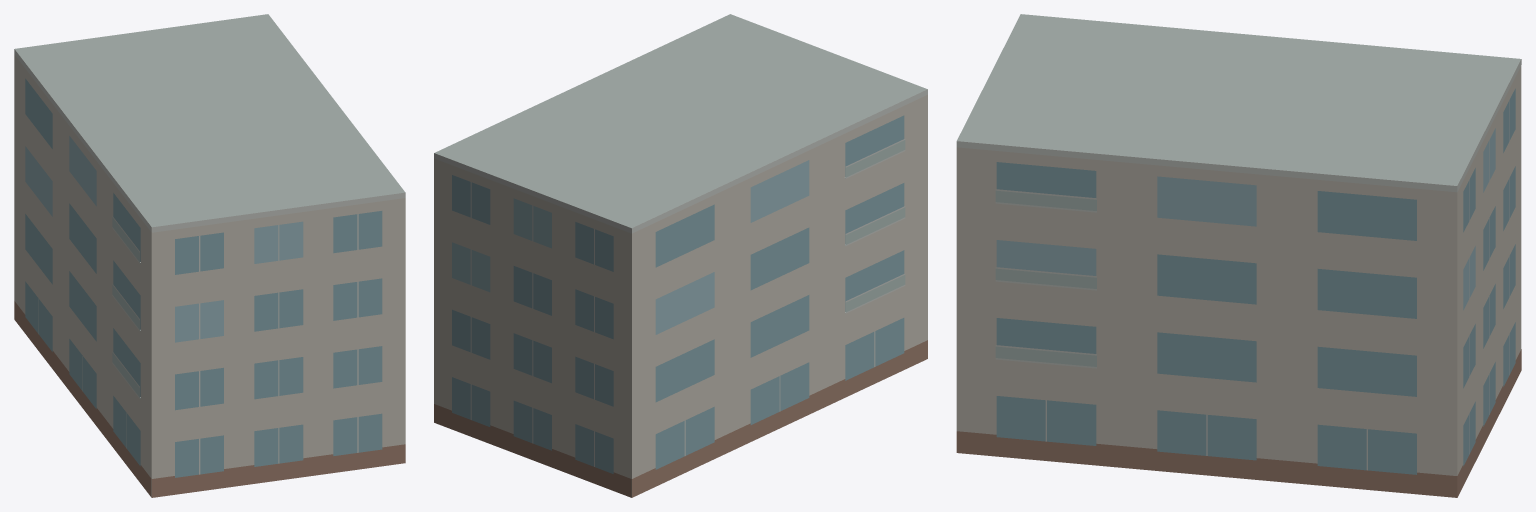
Rendered from residential-728b2170-14ad-4085-9665-f12f631de585.glb.
The picture shows the model from 3 angles, left to right: view 1: azimuth 30°, elevation 25°; view 2: azimuth 150°, elevation 25°; view 3: azimuth 270°, elevation 25°; orthographic projection. The views are drawn at different scales.
Parts seen in each view (by area): view 1: residential-728b2170-14ad-4085-9665-f12f631de585.tmp; view 2: residential-728b2170-14ad-4085-9665-f12f631de585.tmp; view 3: residential-728b2170-14ad-4085-9665-f12f631de585.tmp.
Boxes of the visible parts, x1,y1,x2,y2 form: residential-728b2170-14ad-4085-9665-f12f631de585.tmp: (14,14,405,497); residential-728b2170-14ad-4085-9665-f12f631de585.tmp: (434,14,927,497); residential-728b2170-14ad-4085-9665-f12f631de585.tmp: (956,14,1521,497).
Bounding box in the file's own units: 14.45 × 12.2 × 20.04.
